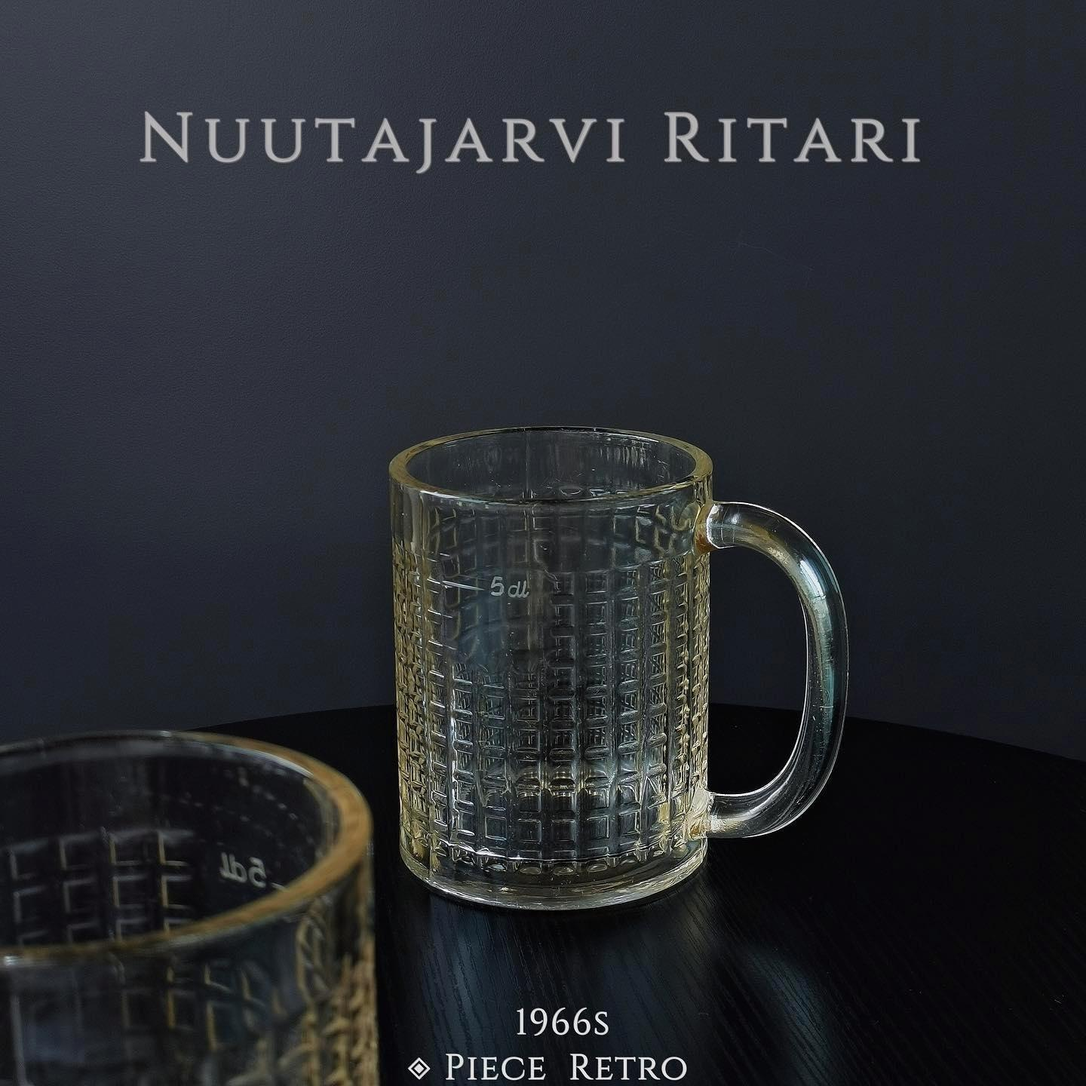glass-mug: (379, 414, 860, 923)
